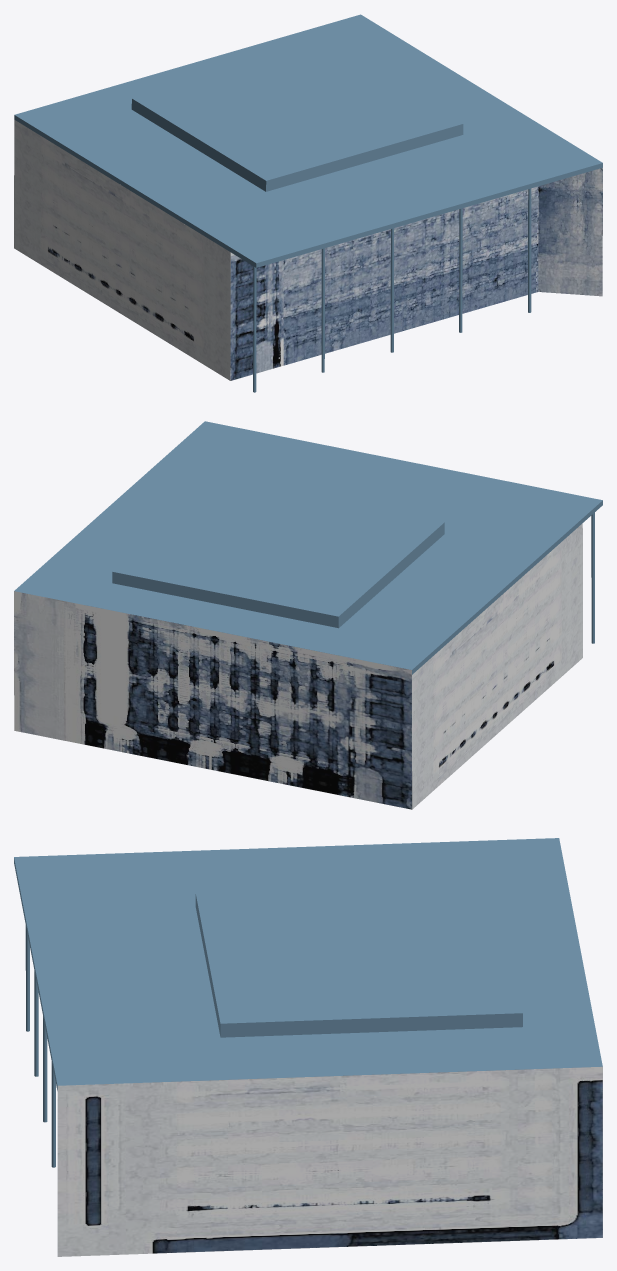
File: hoersaalzentrum.gltf
3 renders of one model, top to bottom at view 1: azimuth 30°, elevation 25°; view 2: azimuth 150°, elevation 25°; view 3: azimuth 270°, elevation 25°, orthographic. The views are drawn at different scales.
Parts seen in each view (by area): view 1: Dach.1; view 2: Dach.1; view 3: Dach.1.
Part boxes in pixels (bbox=[...]): Dach.1: bbox=[14, 14, 602, 392]; Dach.1: bbox=[14, 421, 602, 809]; Dach.1: bbox=[14, 838, 602, 1256].
Size of the model in its own units: 65.59 by 23.13 by 66.21.
Materials: 7 (6 with a texture image).
